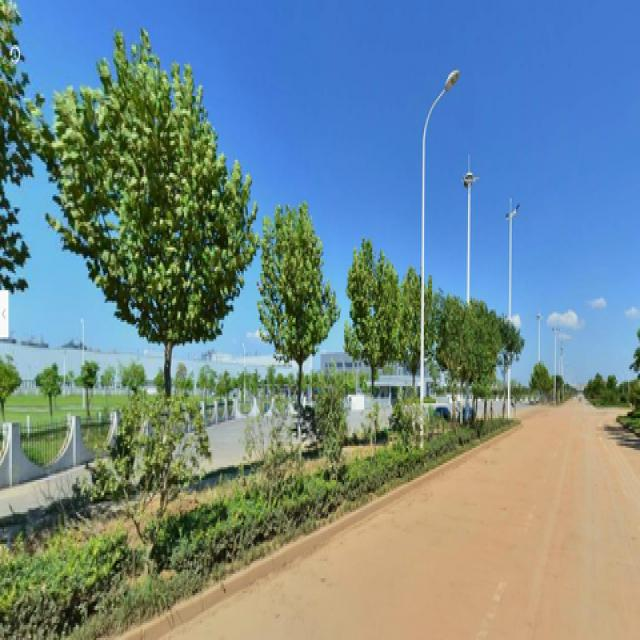meta: (54, 30, 254, 488)
